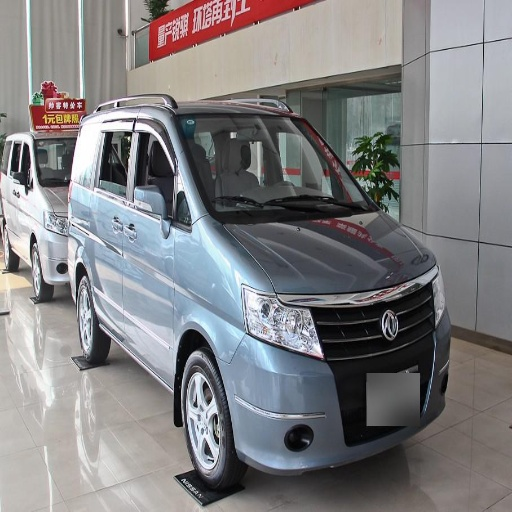front_bumper: (219, 270, 447, 474)
front_right_door: (122, 119, 197, 367)
front_right_light: (244, 288, 322, 357)
hood: (215, 207, 435, 324)
